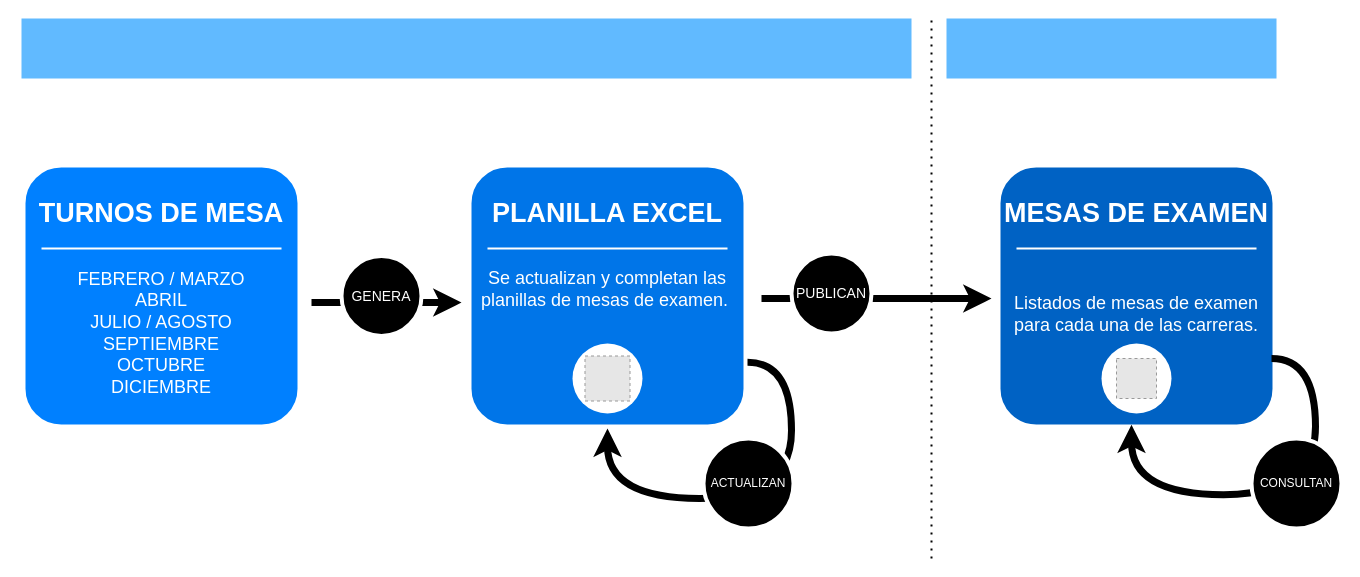
This 1360x577 diagram has some shape labels left out. Grey dashed boxes stand in for pictures. The centre of each missing label's shape, as x and y in pixels:
ALUMNOS - DOCENTES: pixel 1111 48
SECRETARÍA ACADÉMICA: pixel 466 48
